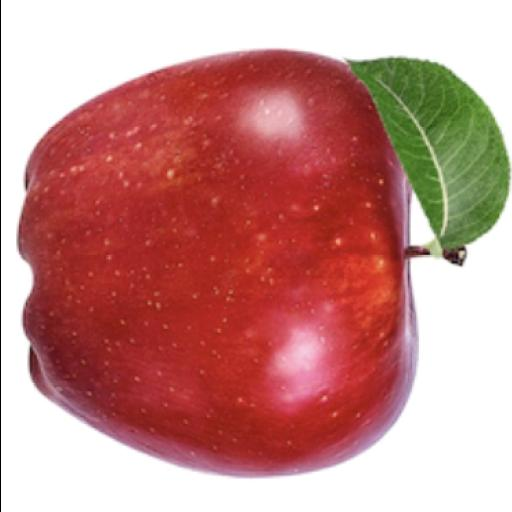apple: (18, 50, 415, 475)
